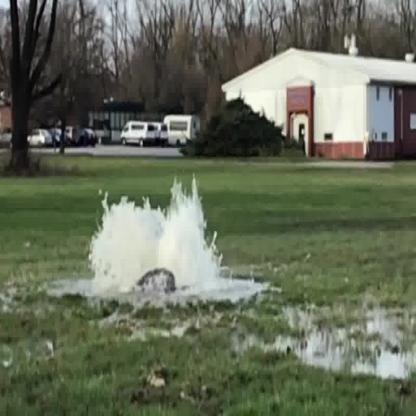drainage overflow-repair-: (86, 178, 222, 305)
